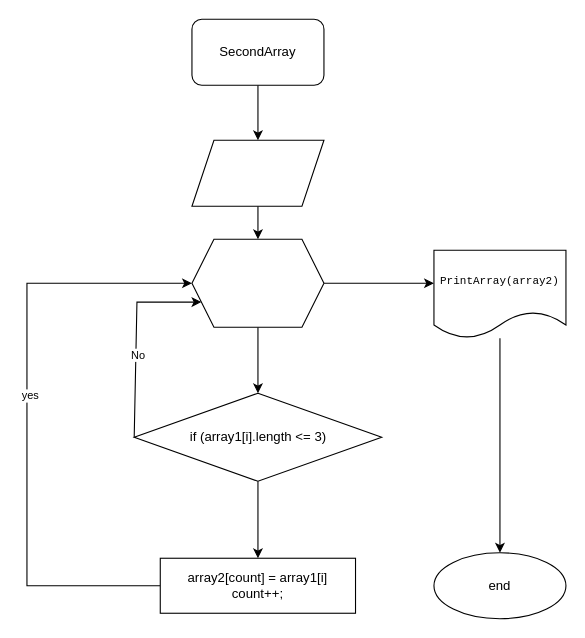
The diagram is 585 pixels wide and 638 high, and some of its shapes have lost their labels. The shapes that lost their labels are listed below. From the top down, each one's centre as x and y in pixels, then its label:
At point 257,172: "string[] array1 string[] array2 int count = 0".
At point 257,282: "for (int i = 0; i < array1.length; i++)".
